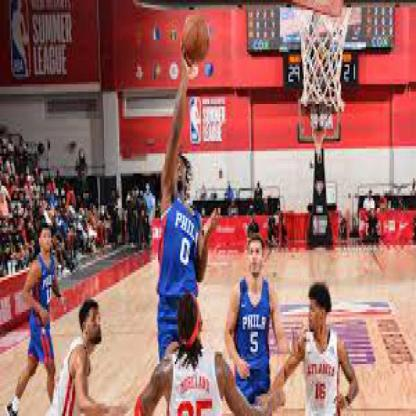basketball: (182, 15, 211, 64)
